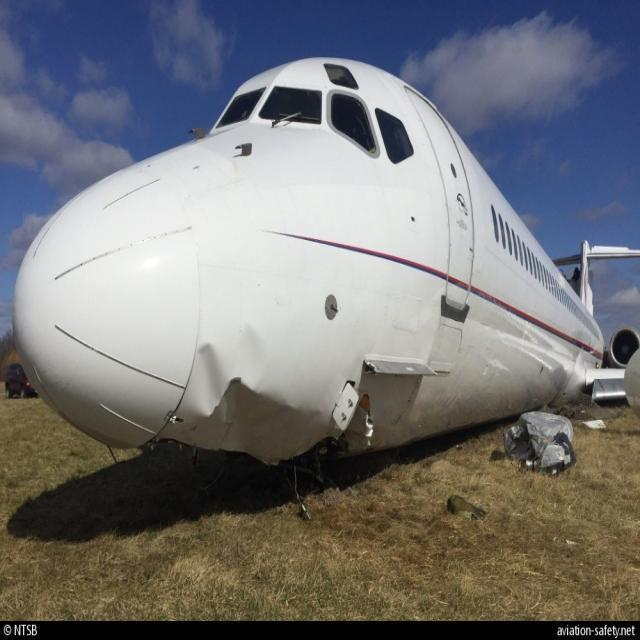dent: (238, 326, 267, 381), (199, 341, 224, 404)
